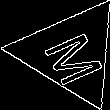M_NE: (34, 21, 107, 85)
